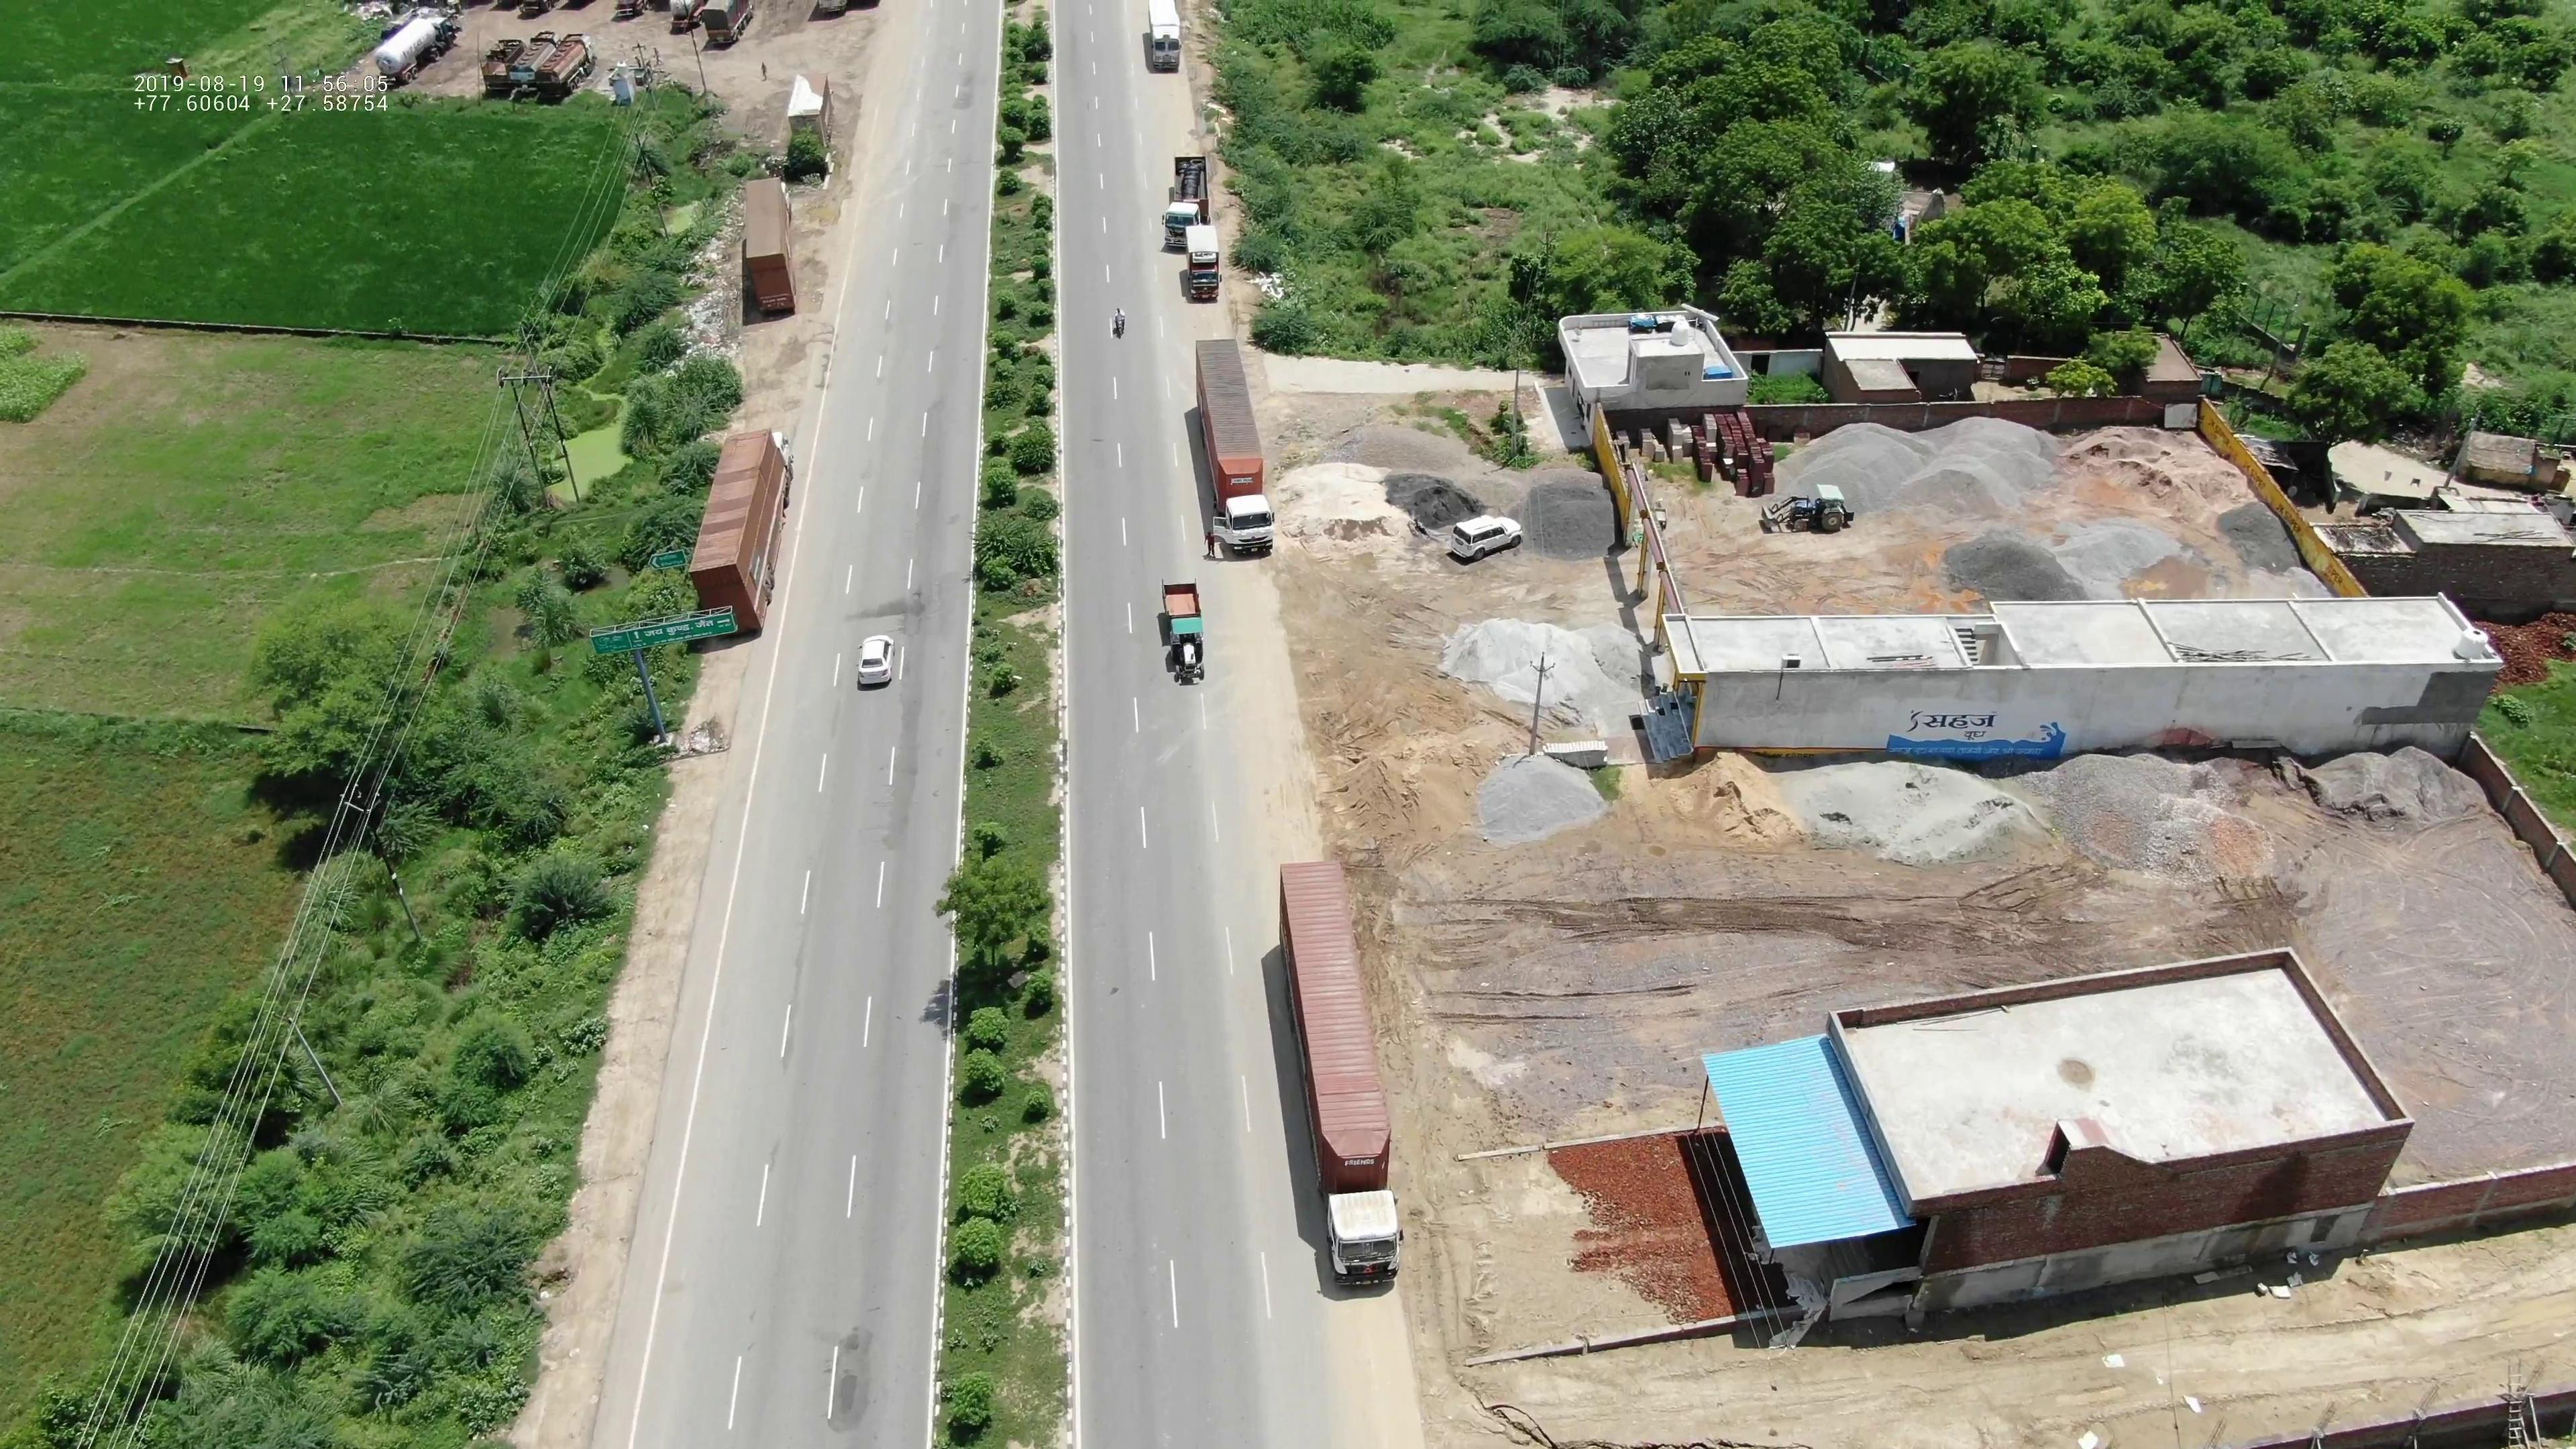Potholes: (892, 577, 936, 609)
